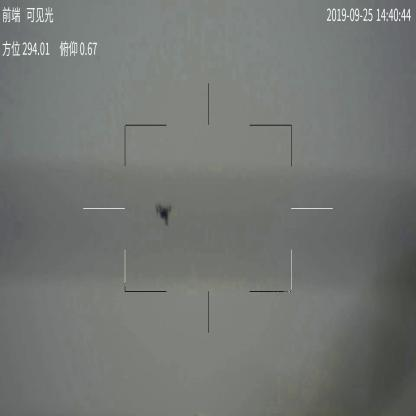uav: (155, 202, 176, 226)
